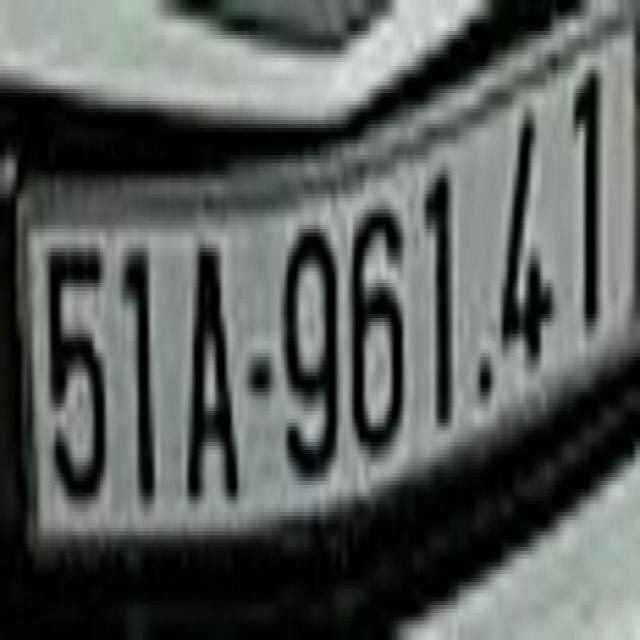1: (562, 42, 616, 376), (416, 140, 466, 458), (115, 209, 166, 516)
4: (496, 90, 556, 434)
5: (44, 202, 110, 536)
6: (348, 167, 407, 481)
9: (280, 198, 338, 504)
A: (179, 194, 242, 520)
